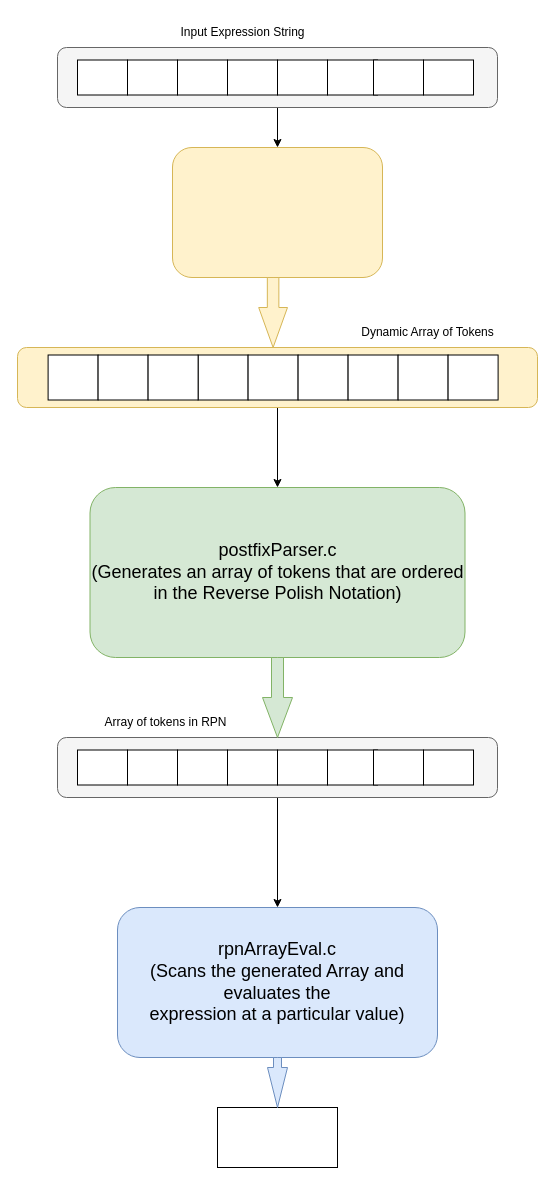
This 555x1185 diagram has some shape labels left out. Here are the shapes that lost their labels. From the top down, the box of each, then its label:
(172, 146, 382, 278): Lexer.c (Tokenizes the expression)
(216, 1106, 338, 1168): Output
